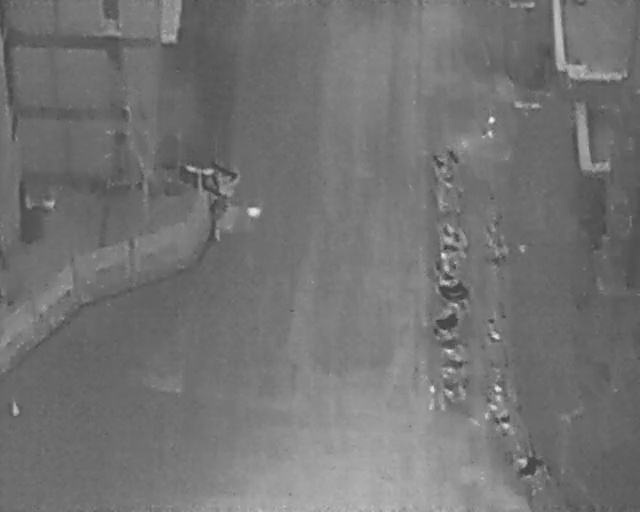Bicycle: (508, 448, 549, 486), (437, 218, 476, 252), (432, 273, 472, 304), (435, 236, 471, 264), (427, 146, 462, 170), (438, 378, 471, 403), (431, 310, 462, 335), (436, 334, 467, 359), (437, 354, 469, 377), (495, 412, 514, 436), (486, 325, 505, 345), (494, 240, 508, 265), (490, 380, 505, 397)
Person: (480, 112, 500, 143)
